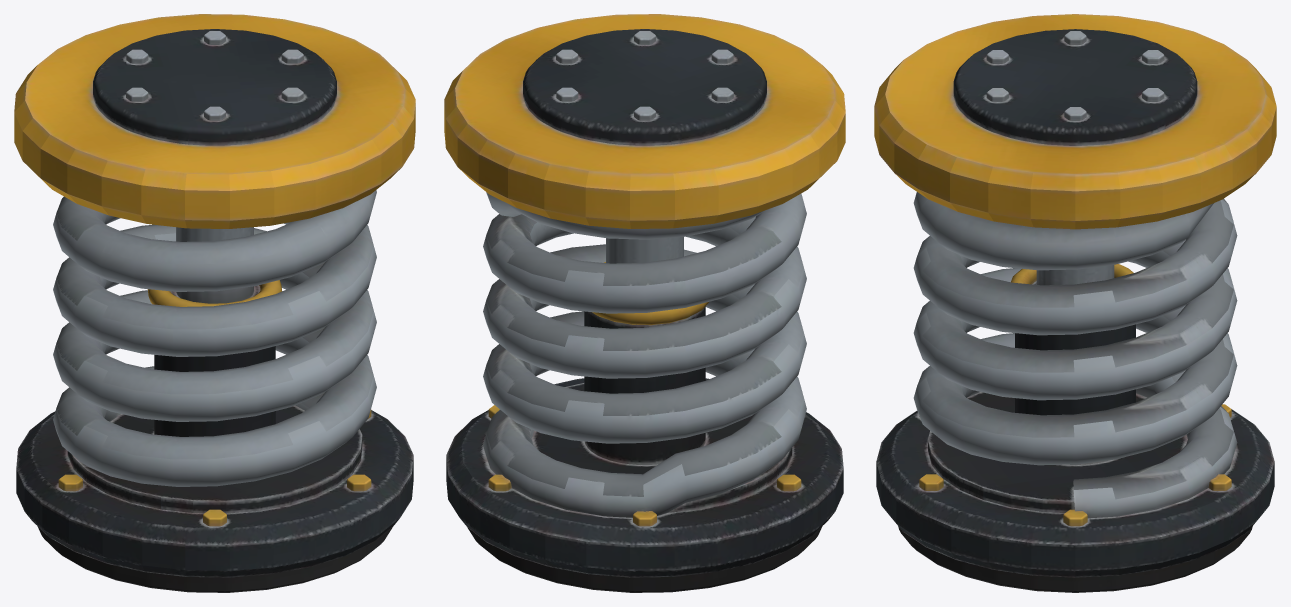
The model's file is spring-v001.glb.
3 views of the same model, side by side, from view 1: azimuth 30°, elevation 25°; view 2: azimuth 150°, elevation 25°; view 3: azimuth 270°, elevation 25° (orthographic).
Visible parts, largest first — view 1: Spring; view 2: Spring; view 3: Spring.
Boxes of the visible parts, left/top/right/bottom form: Spring: left=14, top=14, right=415, bottom=592; Spring: left=444, top=14, right=845, bottom=592; Spring: left=874, top=14, right=1276, bottom=592.
Size of the model in its own units: 0.368 by 0.45 by 0.368.
1 material, 1 textured.
